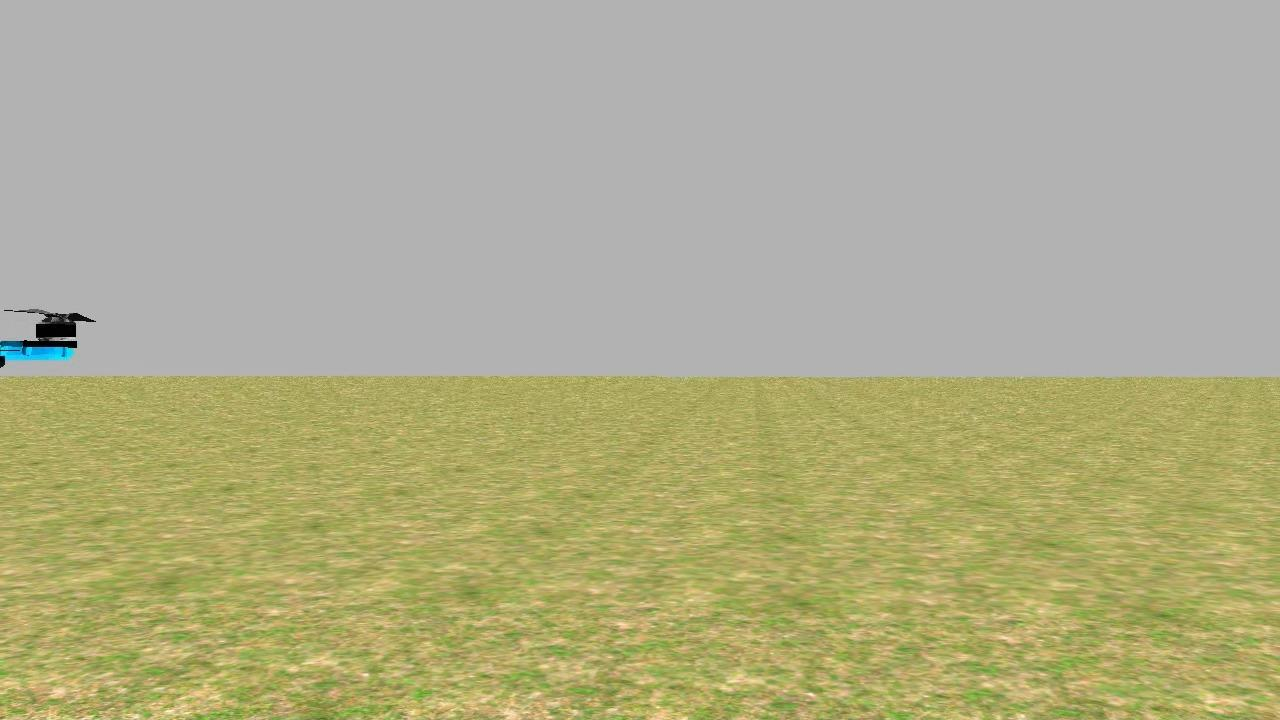UAV: (0, 270, 93, 395)
